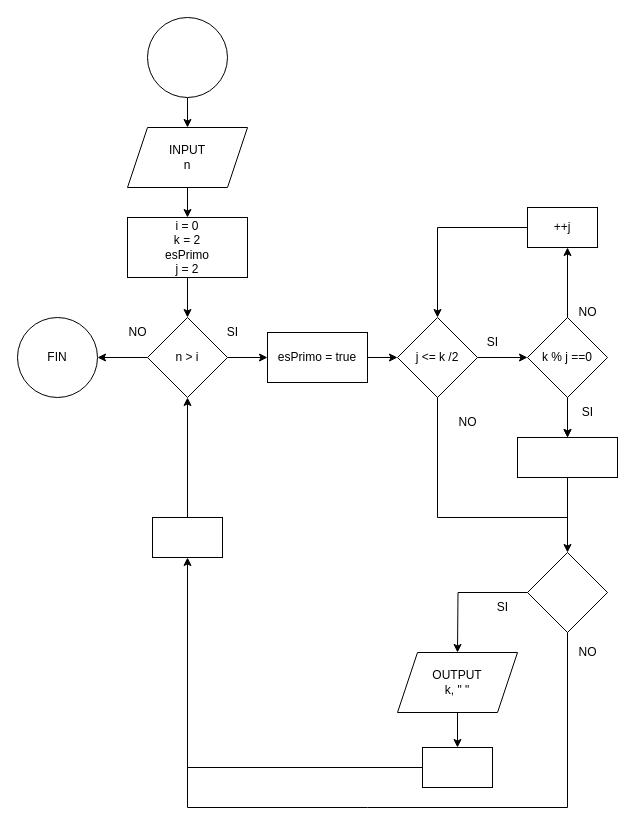
Some shapes in this 635 by 826 pixel diagram are drawn without their labels. The box of each missing label's shape, as (x1, y1, x2, y2) in pixels:
++i: (422, 746, 492, 788)
++k: (152, 516, 222, 558)
esPrimo: (526, 552, 608, 632)
esPrimo = false: (516, 436, 618, 478)
INICIO: (146, 16, 228, 98)
